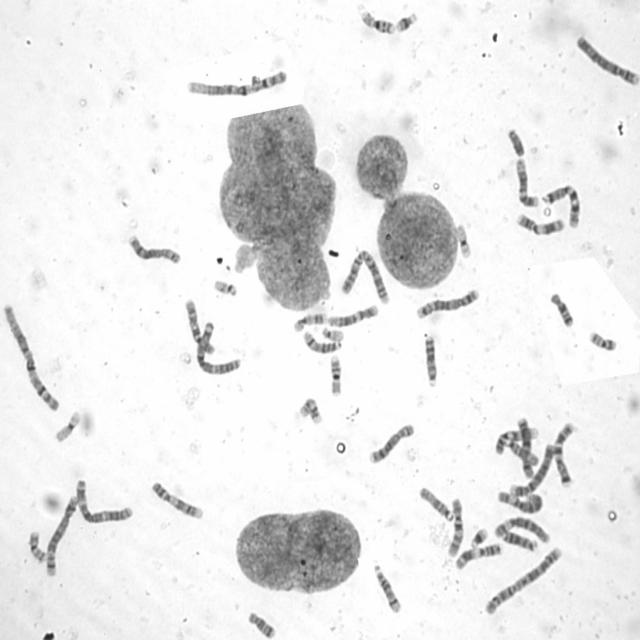A1: (1, 302, 62, 414), (185, 70, 288, 97)
A2: (484, 547, 562, 616), (341, 248, 391, 306)
A3: (75, 478, 134, 523), (195, 320, 243, 375)
B4: (576, 35, 640, 88), (509, 444, 554, 498)
B5: (46, 494, 79, 576), (417, 288, 480, 321)
C10: (184, 298, 216, 355), (446, 497, 464, 558)
C11: (454, 543, 503, 571), (516, 212, 565, 236)
C12: (327, 304, 380, 328), (515, 156, 539, 208)
C6: (494, 515, 550, 545), (497, 490, 544, 514)
C7: (542, 183, 582, 228), (553, 422, 575, 488)
C8: (367, 423, 414, 466), (128, 234, 182, 266)
C9: (150, 479, 205, 520), (495, 426, 539, 456)
D13: (423, 334, 439, 388), (504, 530, 538, 552)
D14: (371, 563, 403, 614), (302, 330, 343, 354)
D15: (418, 485, 454, 523), (505, 438, 539, 466)
E16: (360, 10, 395, 36), (329, 354, 344, 398)
E17: (292, 312, 328, 334), (300, 396, 322, 426)
E18: (550, 291, 574, 329), (248, 611, 277, 639)
F19: (54, 408, 81, 443), (456, 224, 472, 259)
F20: (588, 330, 619, 352), (28, 530, 48, 563)
G21: (395, 12, 418, 34), (469, 527, 488, 549)
G22: (214, 280, 238, 298), (322, 327, 344, 342)
X: (517, 416, 535, 480)
Y: (507, 128, 526, 158)
